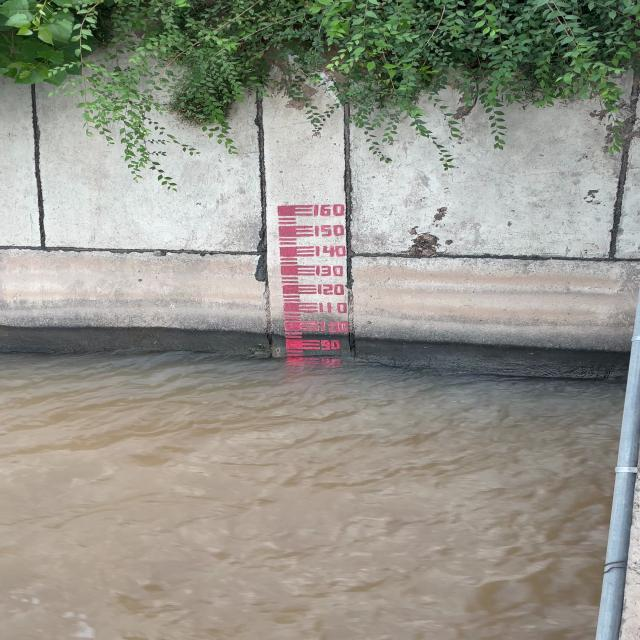ruler: (272, 200, 356, 355)
value: (312, 202, 348, 218), (316, 318, 352, 334), (312, 223, 349, 238), (313, 263, 348, 278), (315, 300, 350, 315), (312, 244, 349, 258), (314, 282, 349, 296), (316, 338, 344, 350)
